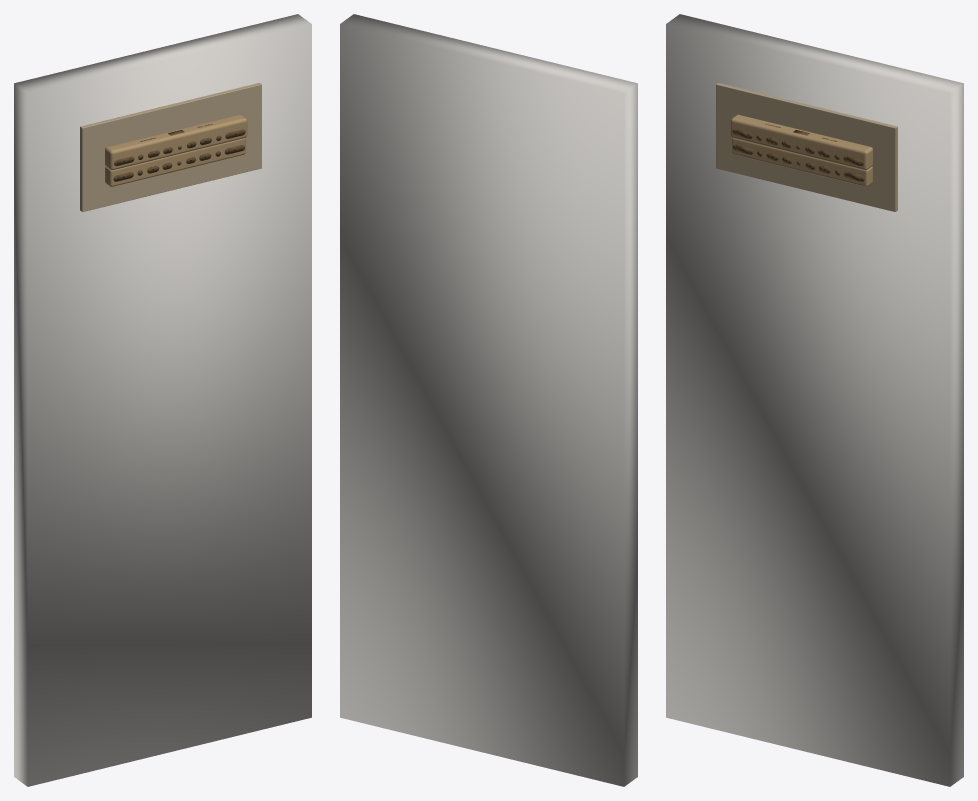
The model's file is beastmaker-2000-series-hangboard_v002.glb.
The picture shows the model from 3 angles, left to right: view 1: azimuth 30°, elevation 25°; view 2: azimuth 150°, elevation 25°; view 3: azimuth 330°, elevation 25°; orthographic projection.
Parts seen in each view (by area): view 1: beastmaker-2000-series-hangboard_wall, beastmaker-2000-series-hangboard_ply, beastmaker-2000-series-hangboard_wood, beastmaker-2000-series-hangboard_wood.001, beastmaker-2000-series-hangboard_hold; view 2: beastmaker-2000-series-hangboard_wall; view 3: beastmaker-2000-series-hangboard_wall, beastmaker-2000-series-hangboard_ply, beastmaker-2000-series-hangboard_wood, beastmaker-2000-series-hangboard_wood.001, beastmaker-2000-series-hangboard_hold.
Part boxes in pixels (<box>): beastmaker-2000-series-hangboard_wall: <box>14,14,311,786</box>; beastmaker-2000-series-hangboard_ply: <box>80,83,261,211</box>; beastmaker-2000-series-hangboard_wood: <box>105,114,247,170</box>; beastmaker-2000-series-hangboard_wood.001: <box>105,138,245,186</box>; beastmaker-2000-series-hangboard_hold: <box>113,129,245,181</box>; beastmaker-2000-series-hangboard_wall: <box>340,14,637,786</box>; beastmaker-2000-series-hangboard_wall: <box>666,14,963,786</box>; beastmaker-2000-series-hangboard_ply: <box>716,83,897,211</box>; beastmaker-2000-series-hangboard_wood: <box>730,114,872,170</box>; beastmaker-2000-series-hangboard_wood.001: <box>732,138,872,186</box>; beastmaker-2000-series-hangboard_hold: <box>732,129,864,181</box>.
Bounding box in the file's own units: 1.2 × 2.8 × 0.1741.
